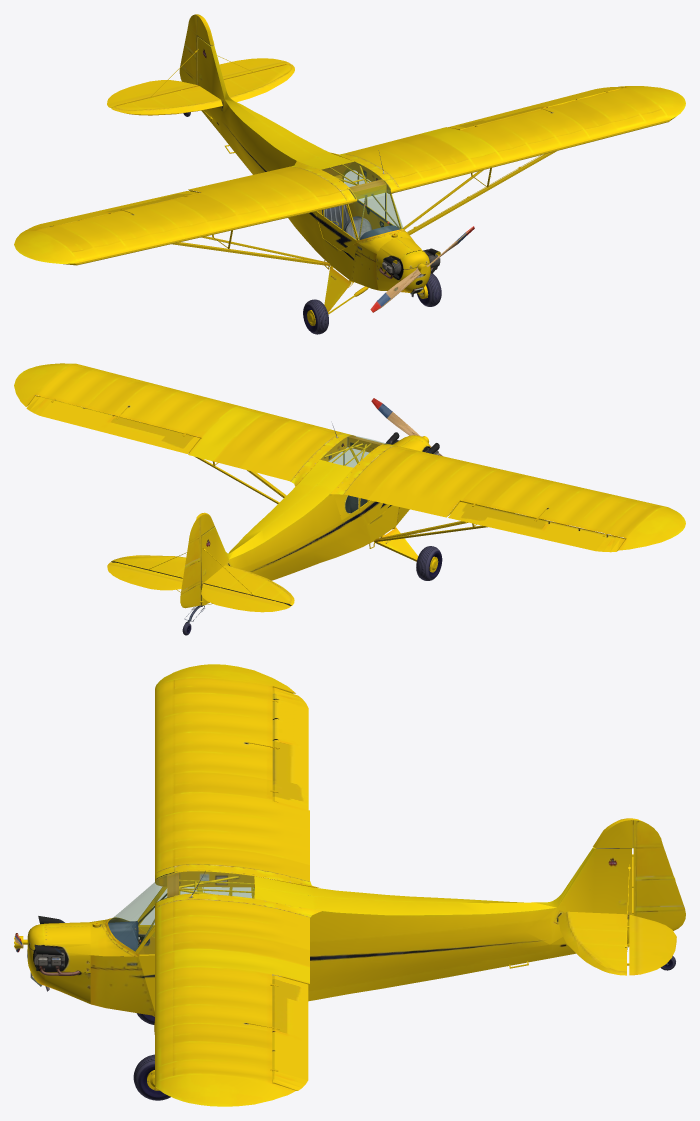
The model's file is lite-def.gltf.
3 renders of one model, top to bottom at view 1: azimuth 30°, elevation 25°; view 2: azimuth 150°, elevation 25°; view 3: azimuth 270°, elevation 25°, orthographic. The views are drawn at different scales.
Visible parts, largest first — view 1: Exterior; view 2: Exterior; view 3: Exterior.
Boxes of the visible parts, x1=… form: Exterior: x1=14, y1=14, x2=685, y2=334; Exterior: x1=14, y1=363, x2=685, y2=635; Exterior: x1=14, y1=664, x2=685, y2=1106.
Bounding box in the file's own units: 10.65 × 2.73 × 6.86.
Materials: 73 (61 with a texture image).
